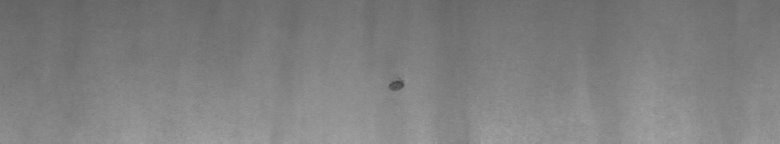fi: (387, 72, 408, 96)
